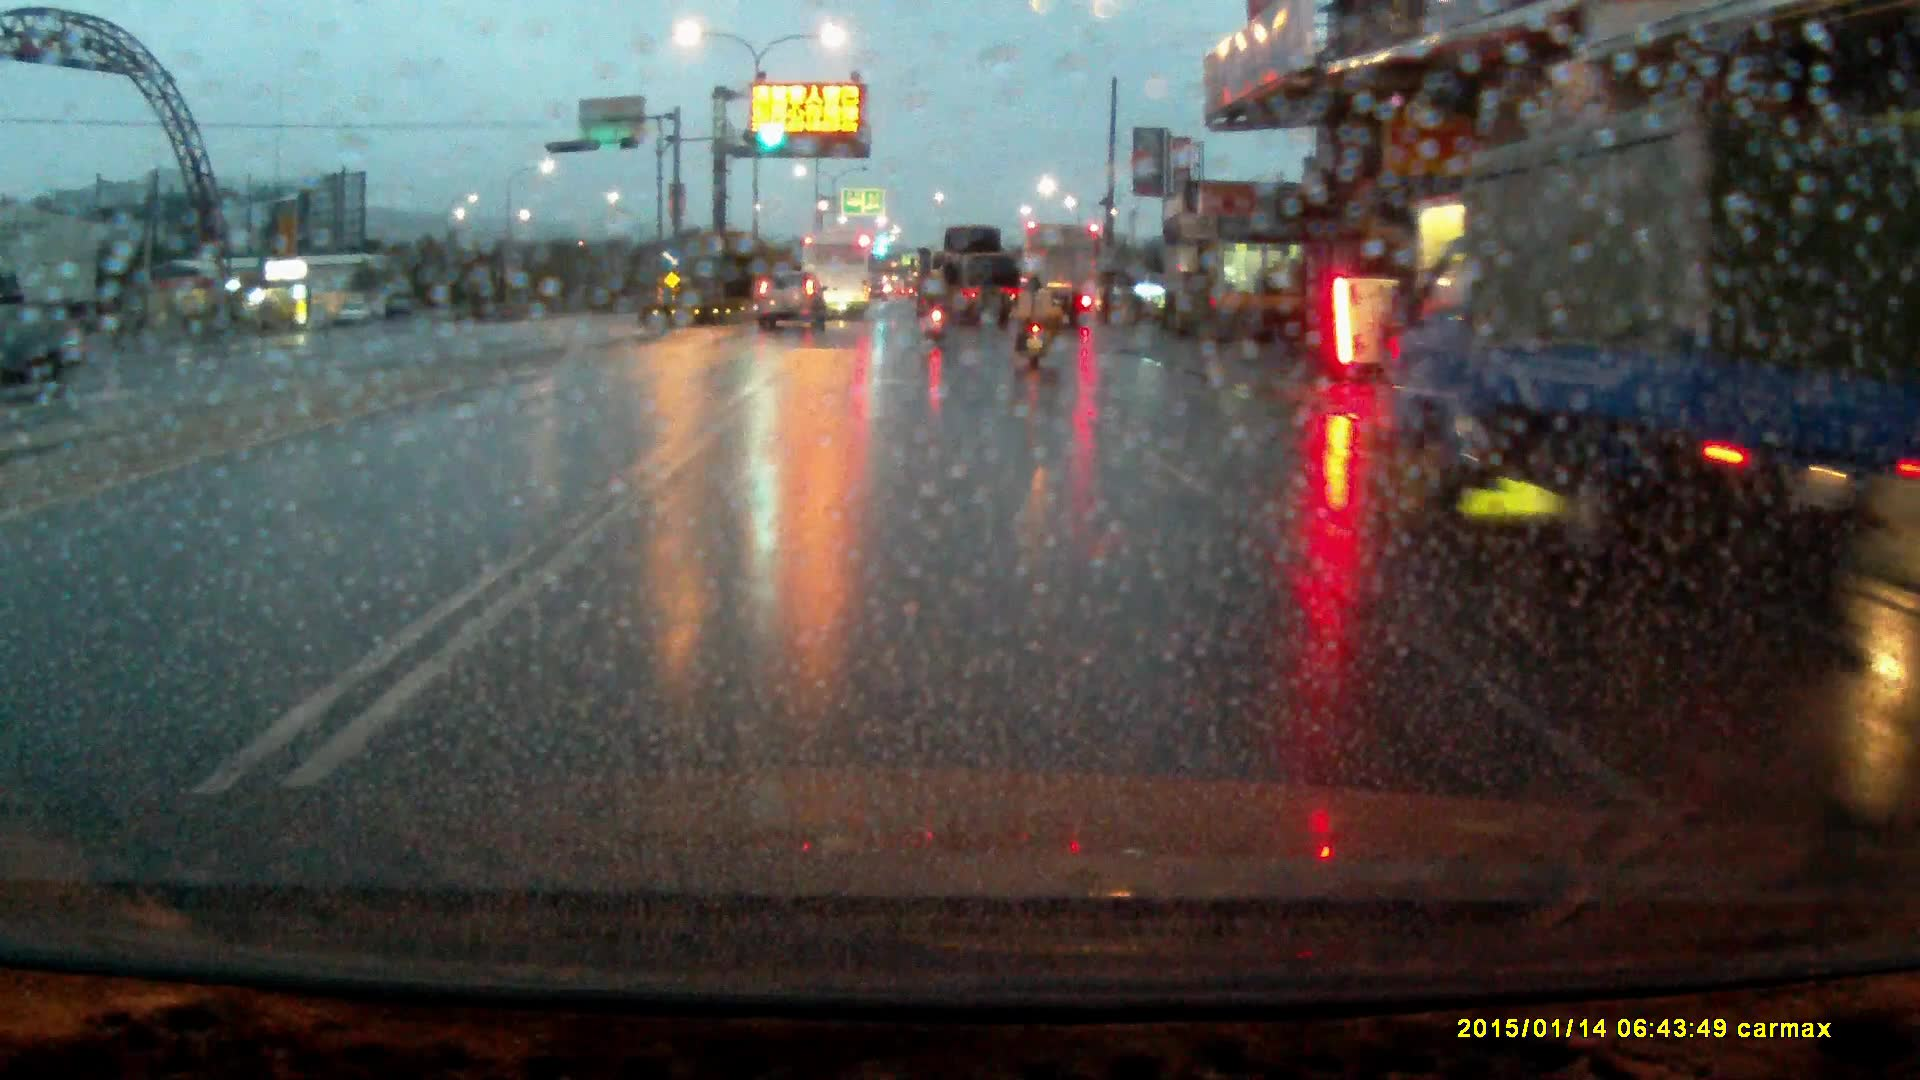rider: (1014, 270, 1051, 370), (925, 276, 949, 344)
vehicle: (1385, 91, 1860, 570), (931, 233, 1024, 344), (1023, 230, 1106, 331), (802, 237, 876, 329), (1, 324, 82, 404), (758, 278, 825, 340)
